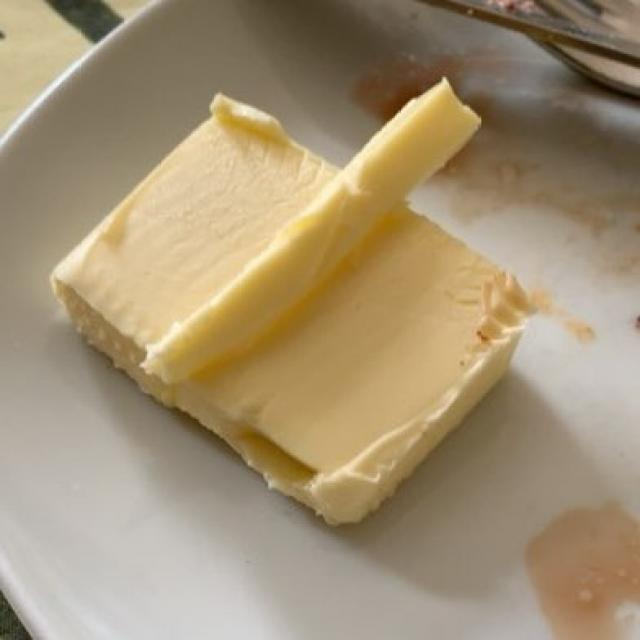butter: (60, 83, 535, 530)
